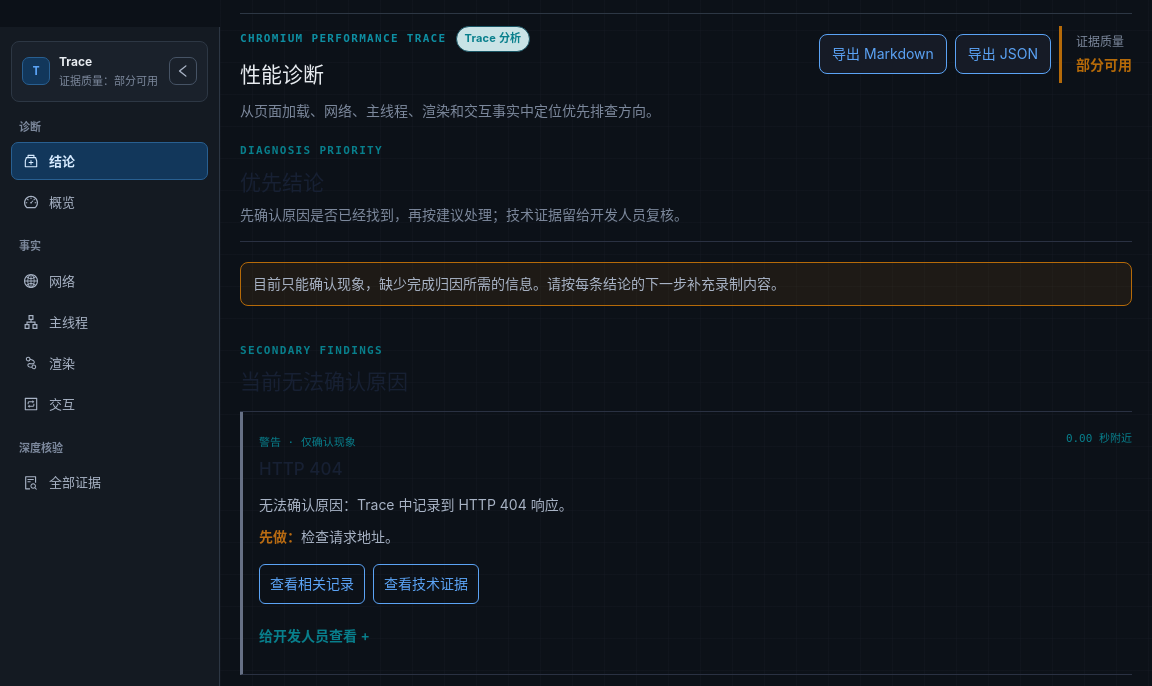
TraceResultPage › 目标缺失时提示失败、消费意图，并允许重复点击同一目标
This screenshot has width=1152, height=686.
Step 1. Click the button with aria-label "查看事实：HTTP 404" → (312, 584), box [259,564,365,604]
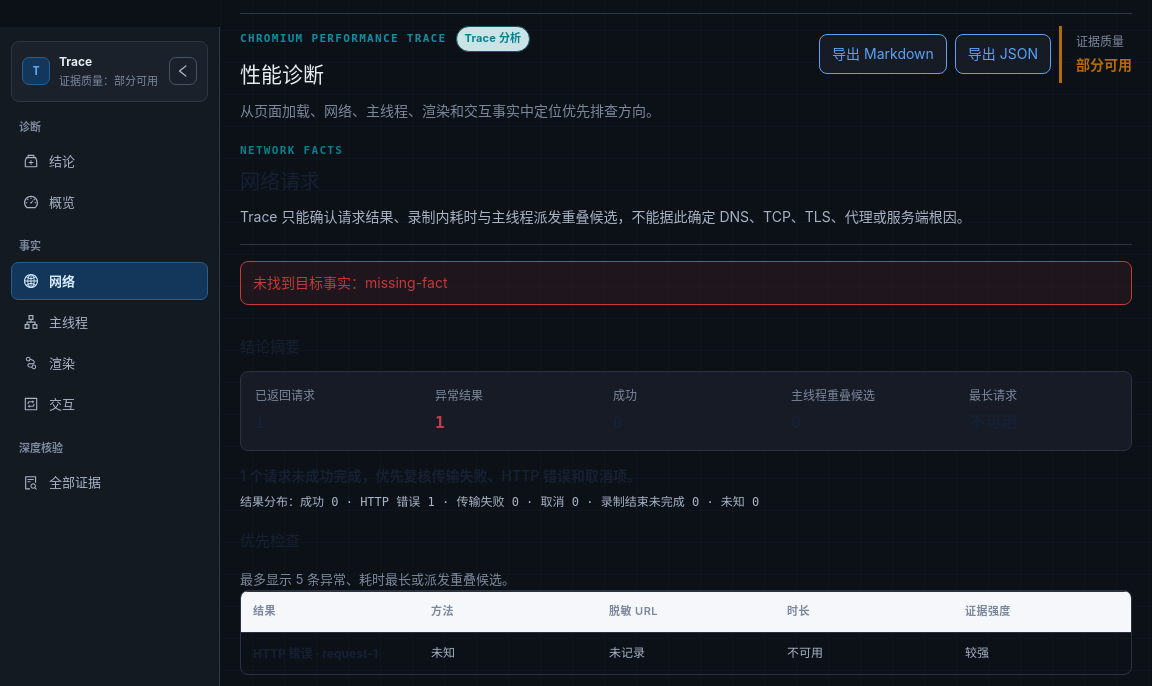
Expected: the text "未找到目标事实：missing-fact" is shown, [240,261,1132,305]
Step 2. Click the button "结论" → (110, 161), box [11,142,208,180]
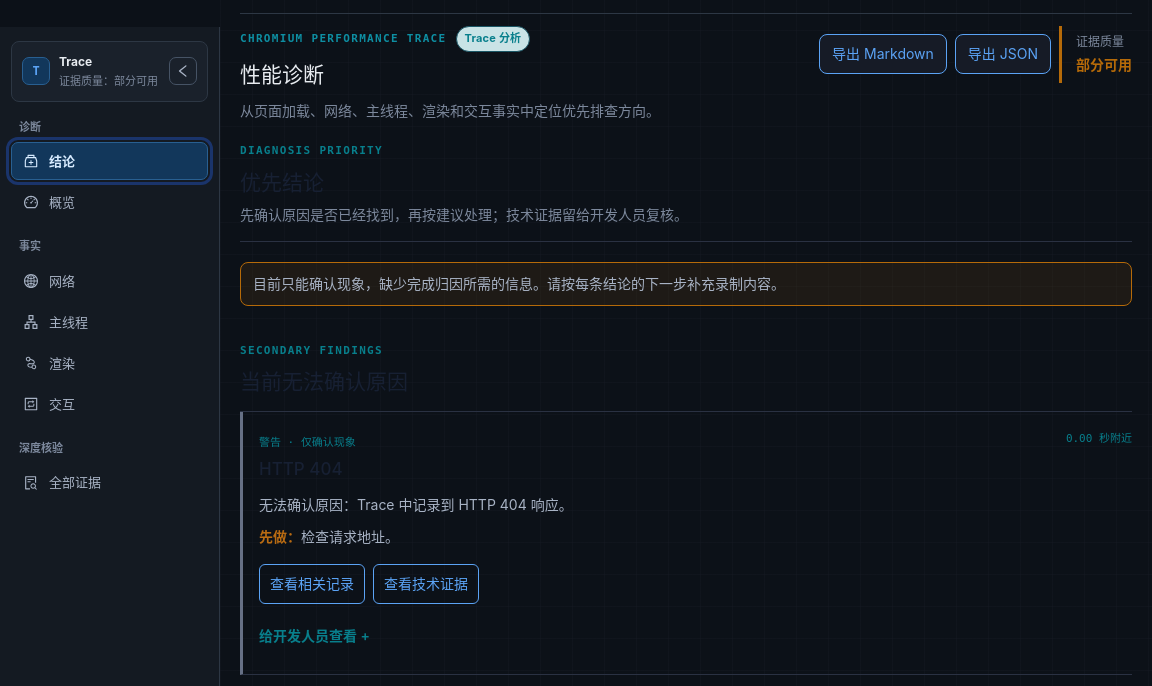
Step 3. Click the button with aria-label "查看证据索引：HTTP 404" → (426, 584), box [373,564,479,604]
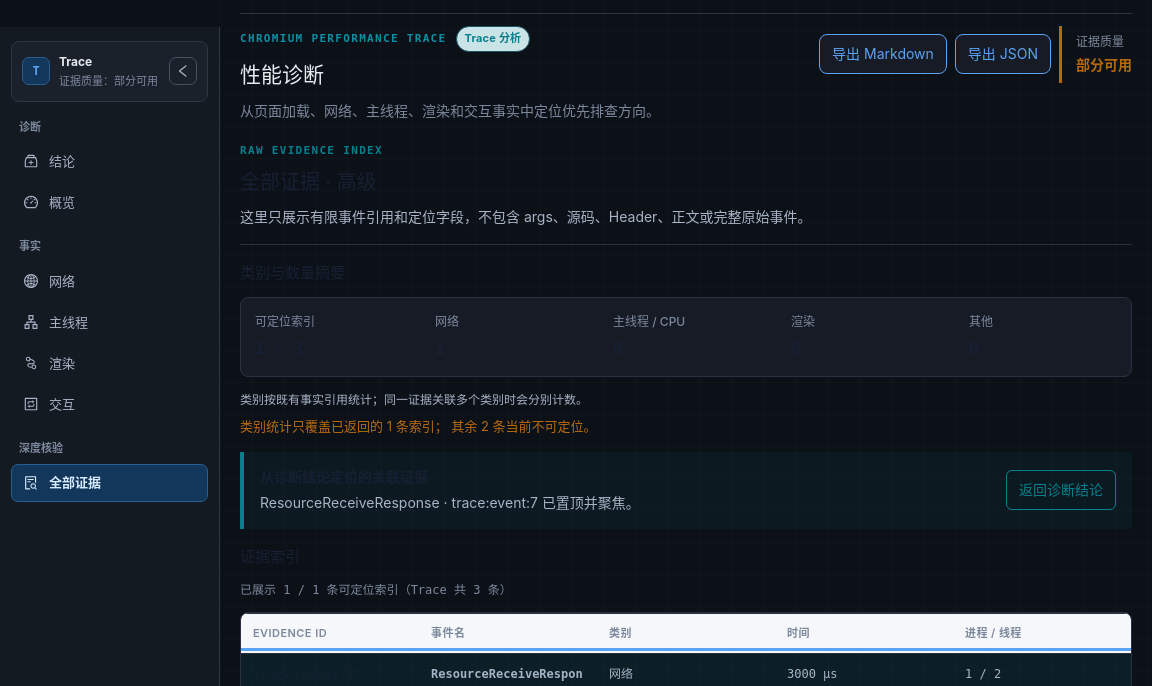
Step 4. Click the button "结论" → (110, 161), box [11,142,208,180]
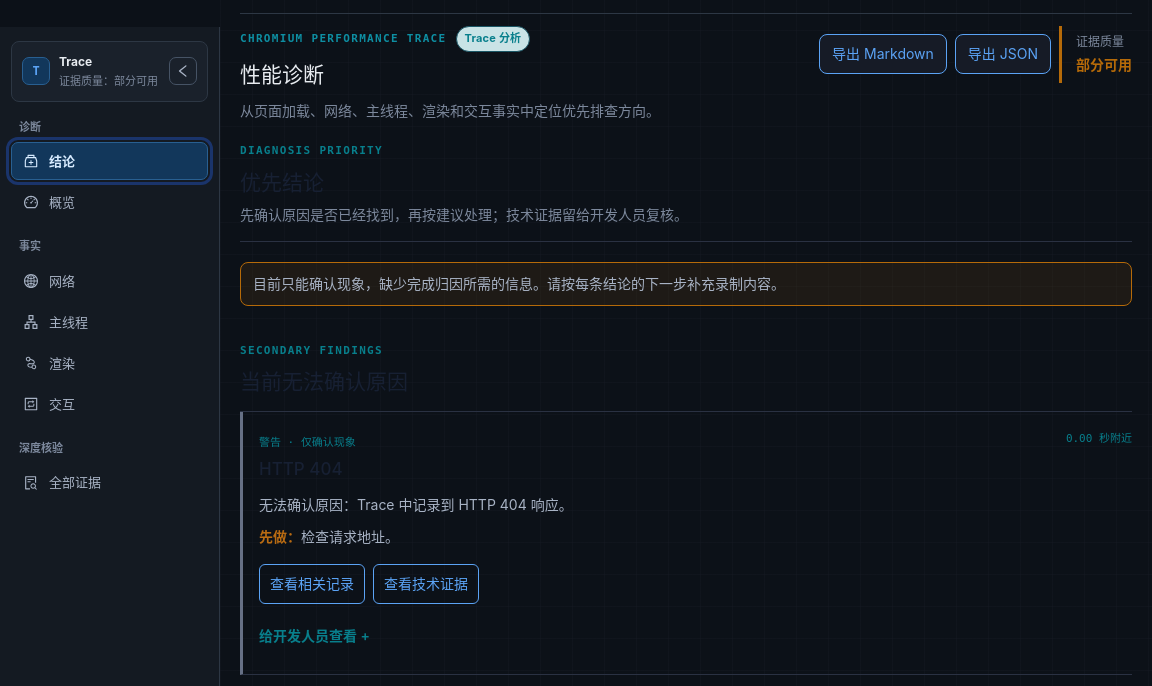
Step 5. Click the button with aria-label "查看证据索引：HTTP 404" → (426, 584), box [373,564,479,604]
Wait 2000 ms
(page scrolled)
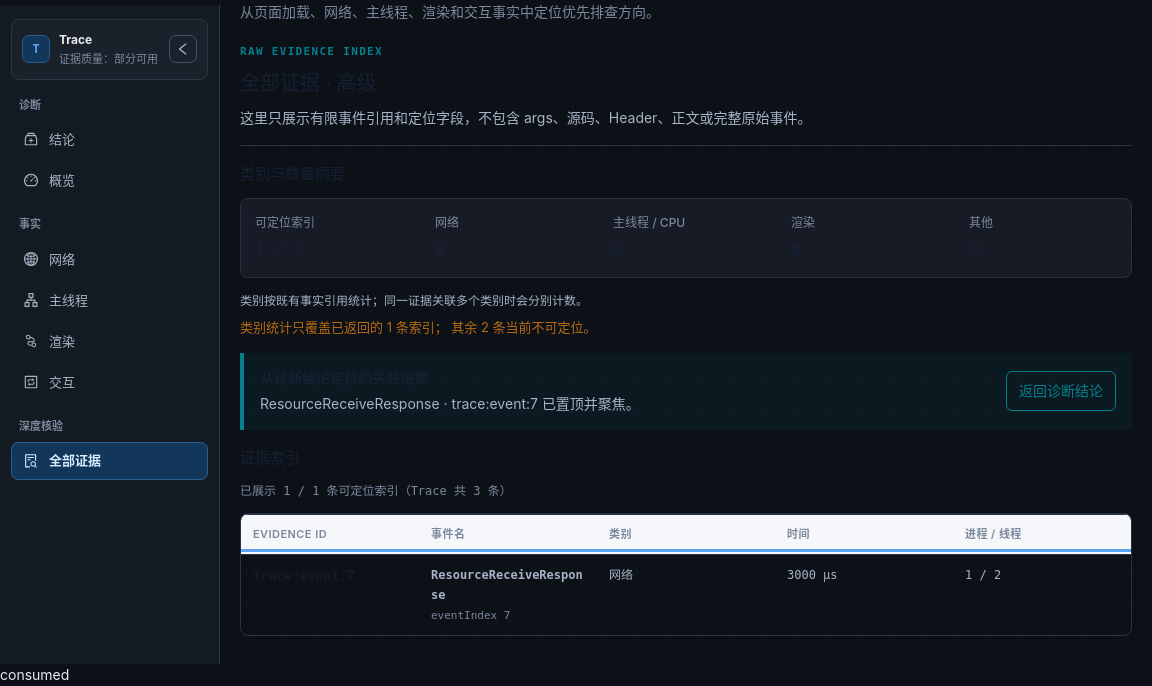
Expected: the text "ResourceReceiveResponse" is shown, [431,566,585,605]
